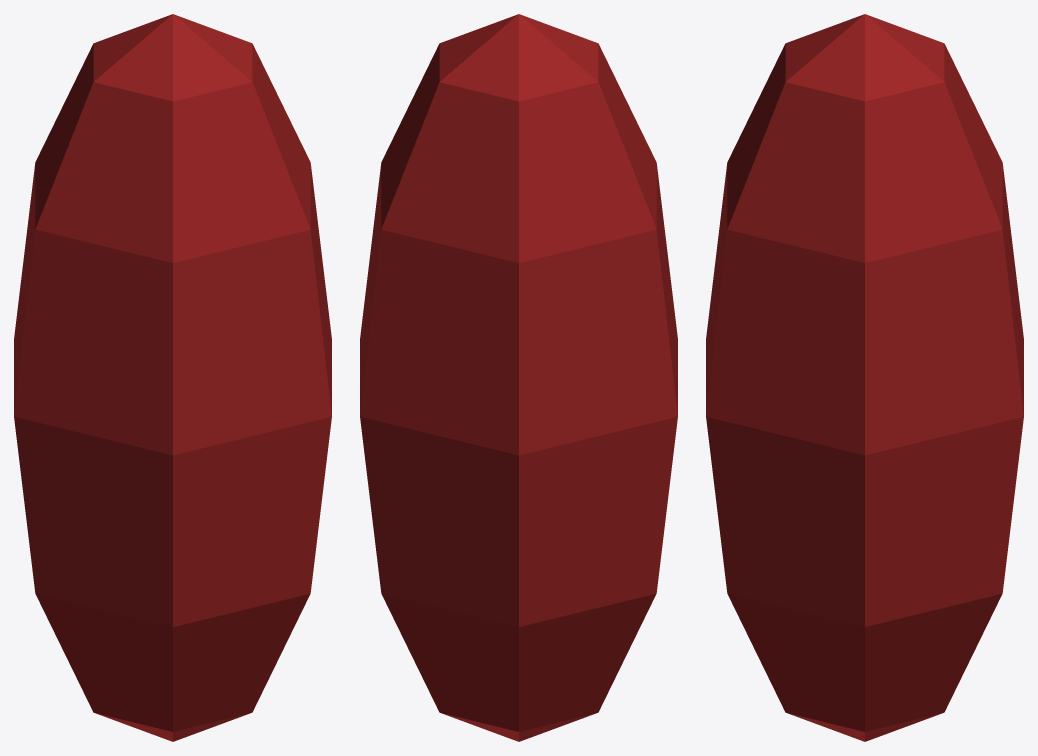
File: Enemy_Melee.fbx
3 renders of one model, left to right at view 1: azimuth 30°, elevation 25°; view 2: azimuth 150°, elevation 25°; view 3: azimuth 270°, elevation 25°, orthographic.
Parts seen in each view (by area): view 1: pSphere9; view 2: pSphere9; view 3: pSphere9.
Boxes of the visible parts, x1,y1,x2,y2 form: pSphere9: (14, 14, 331, 741); pSphere9: (360, 14, 677, 741); pSphere9: (706, 14, 1023, 741).
Size of the model in its own units: 0.6801 by 1.49 by 0.5889.
